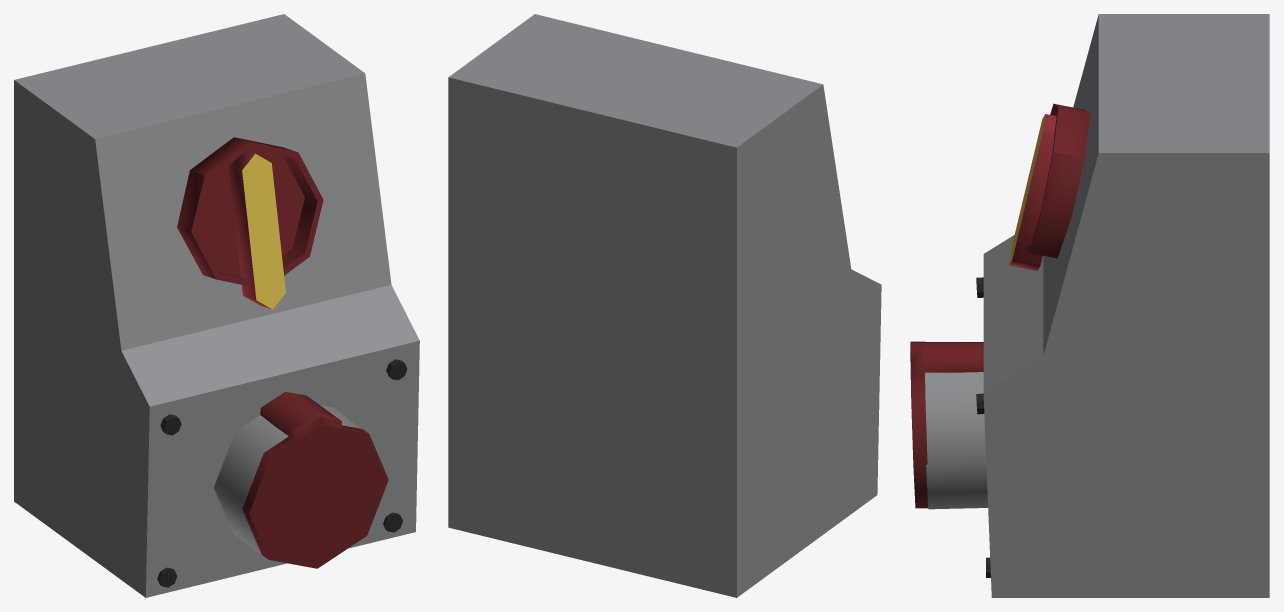
Rendered from IndustrialSocket.fbx.
3 views of the same model, side by side, from view 1: azimuth 30°, elevation 25°; view 2: azimuth 150°, elevation 25°; view 3: azimuth 270°, elevation 25° (orthographic). The views are drawn at different scales.
Visible parts, largest first — view 1: IndustrialSocket; view 2: IndustrialSocket; view 3: IndustrialSocket.
Boxes of the visible parts, x1,y1,x2,y2 form: IndustrialSocket: [14, 14, 419, 597]; IndustrialSocket: [448, 14, 881, 597]; IndustrialSocket: [910, 14, 1269, 597].
Size of the model in its own units: 0.1353 by 0.2019 by 0.1478.
